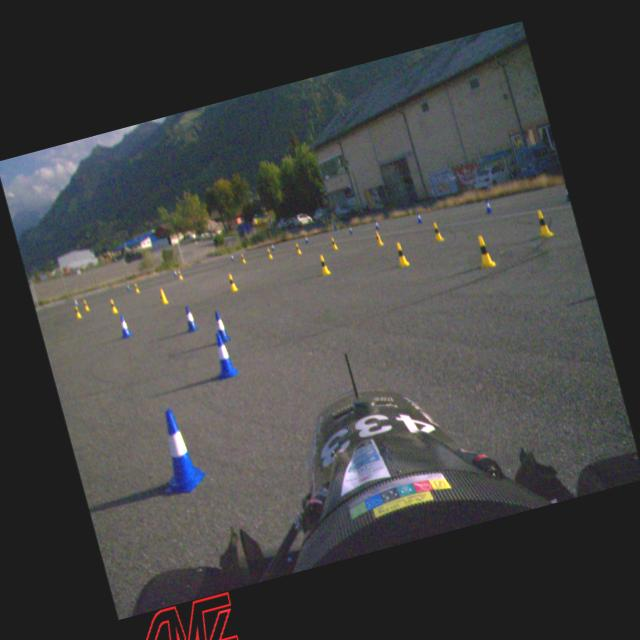blue_cone: (143, 404, 210, 498), (206, 330, 238, 380), (212, 310, 231, 344), (181, 304, 198, 332), (116, 314, 132, 338), (483, 198, 492, 214), (414, 210, 422, 223), (373, 218, 379, 230), (74, 296, 78, 306), (126, 283, 131, 291), (348, 226, 353, 233), (174, 270, 178, 278), (230, 253, 234, 261), (304, 235, 308, 242), (270, 244, 274, 250)
yellow_cone: (473, 233, 496, 270), (532, 208, 554, 240), (392, 241, 410, 268), (317, 253, 331, 276), (431, 221, 444, 242), (226, 272, 239, 292), (108, 297, 119, 314), (158, 287, 169, 304), (374, 230, 384, 247), (81, 297, 90, 312), (73, 304, 82, 319), (330, 236, 338, 250), (294, 242, 302, 255), (133, 282, 140, 294), (266, 248, 273, 259), (240, 253, 246, 264), (177, 270, 183, 280)
